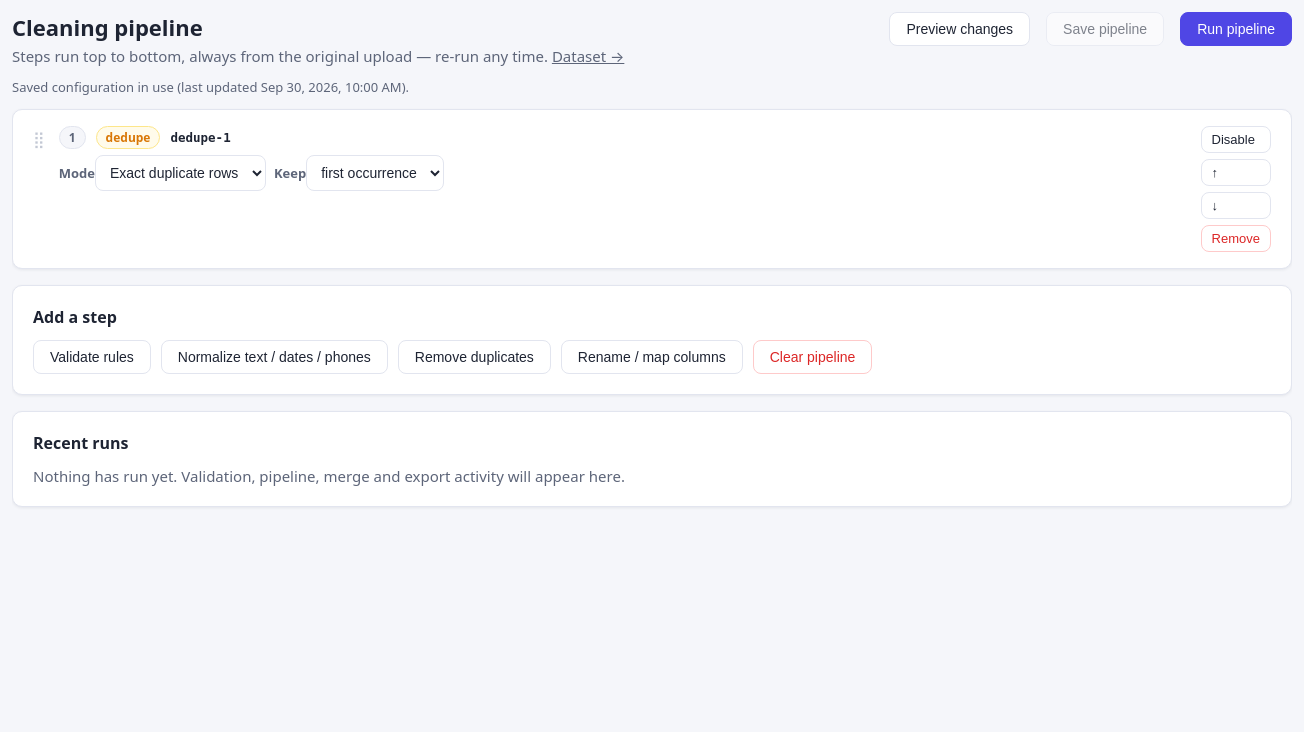
Scenario: PipelinePage (persistence) › clearing the pipeline deletes the saved configuration
The width and height of the screenshot is (1304, 732).
Expected: the element with test id "pipeline-steps" is shown, [12, 109, 1292, 269]
Click the button "Clear pipeline" at (812, 357), box [753, 340, 872, 374]
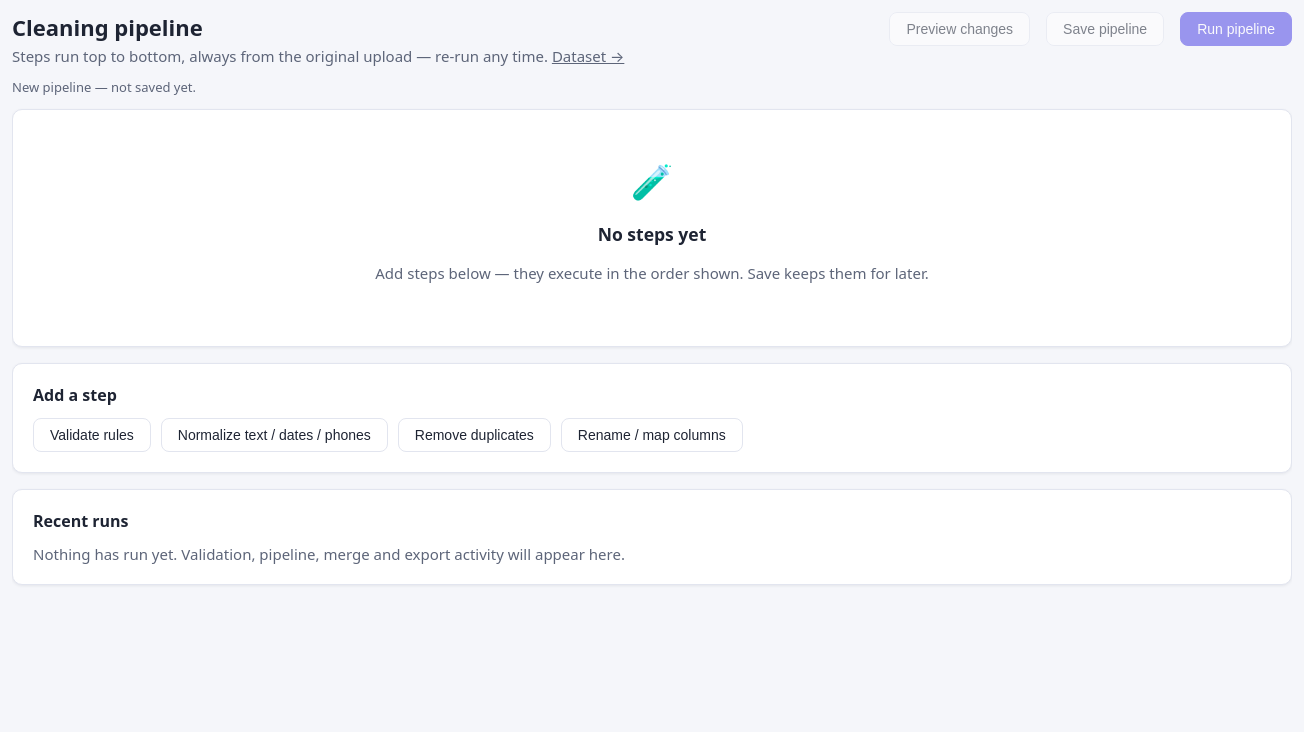
Expected: the element with test id "pipeline-empty" is shown, [12, 109, 1292, 347]
Expected: the text with test id "save-state" shows "not saved yet", [12, 78, 196, 96]
